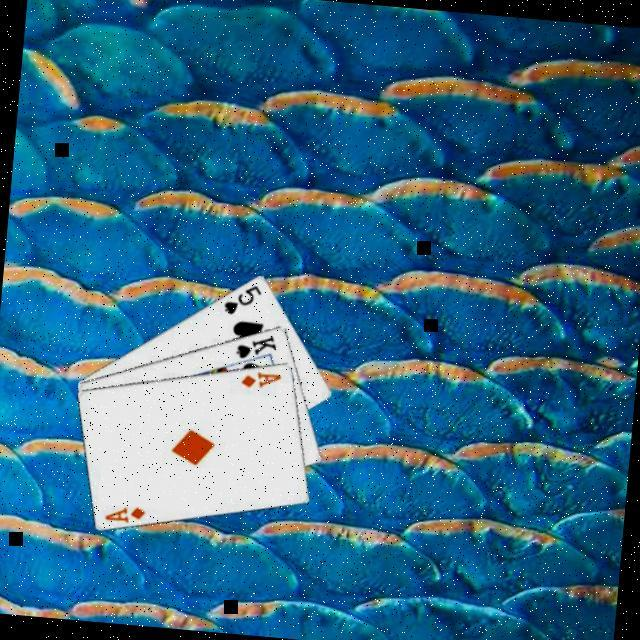5S: (219, 280, 264, 320)
AD: (236, 367, 283, 394), (100, 501, 148, 526)
KS: (230, 329, 279, 365)
